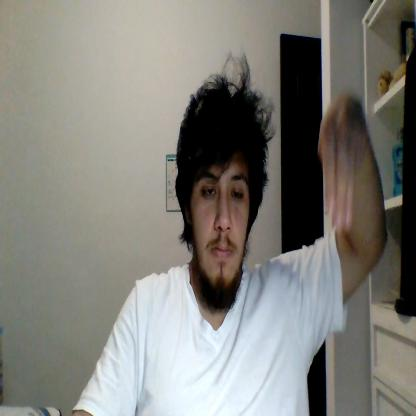M: (318, 90, 366, 233)
